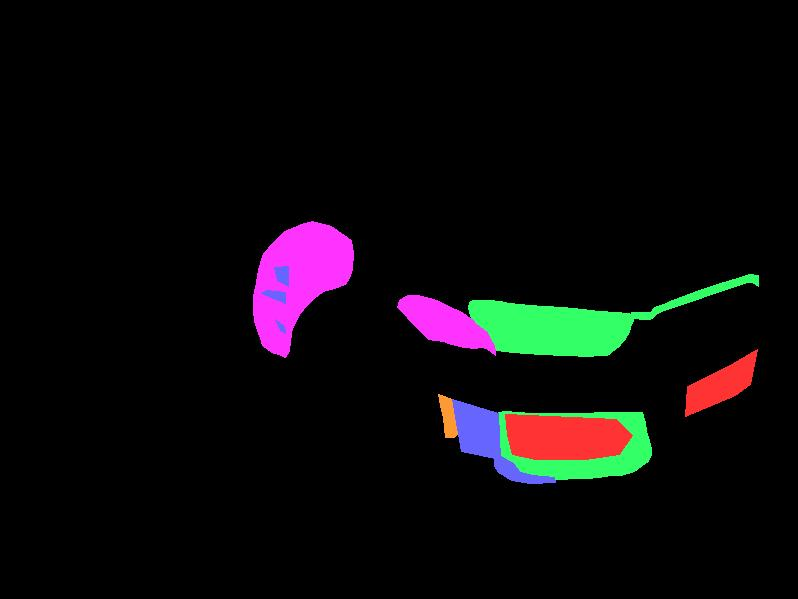Broken part: (497, 411, 651, 479), (468, 300, 634, 356), (631, 274, 758, 319)
Dent: (253, 221, 353, 357), (397, 295, 495, 355)
Missing part: (505, 414, 632, 459), (685, 349, 757, 416)
Paint chip: (438, 394, 457, 437)
Scratch: (452, 399, 500, 459), (494, 455, 555, 483), (261, 290, 285, 303), (274, 266, 288, 286), (275, 319, 285, 333)
